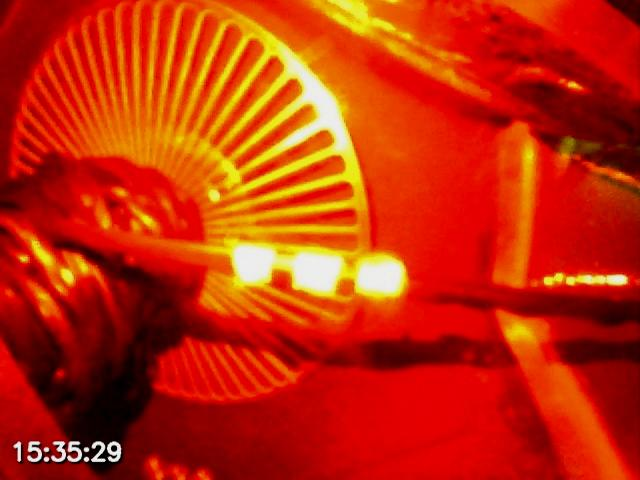white-dots: (230, 240, 408, 300)
